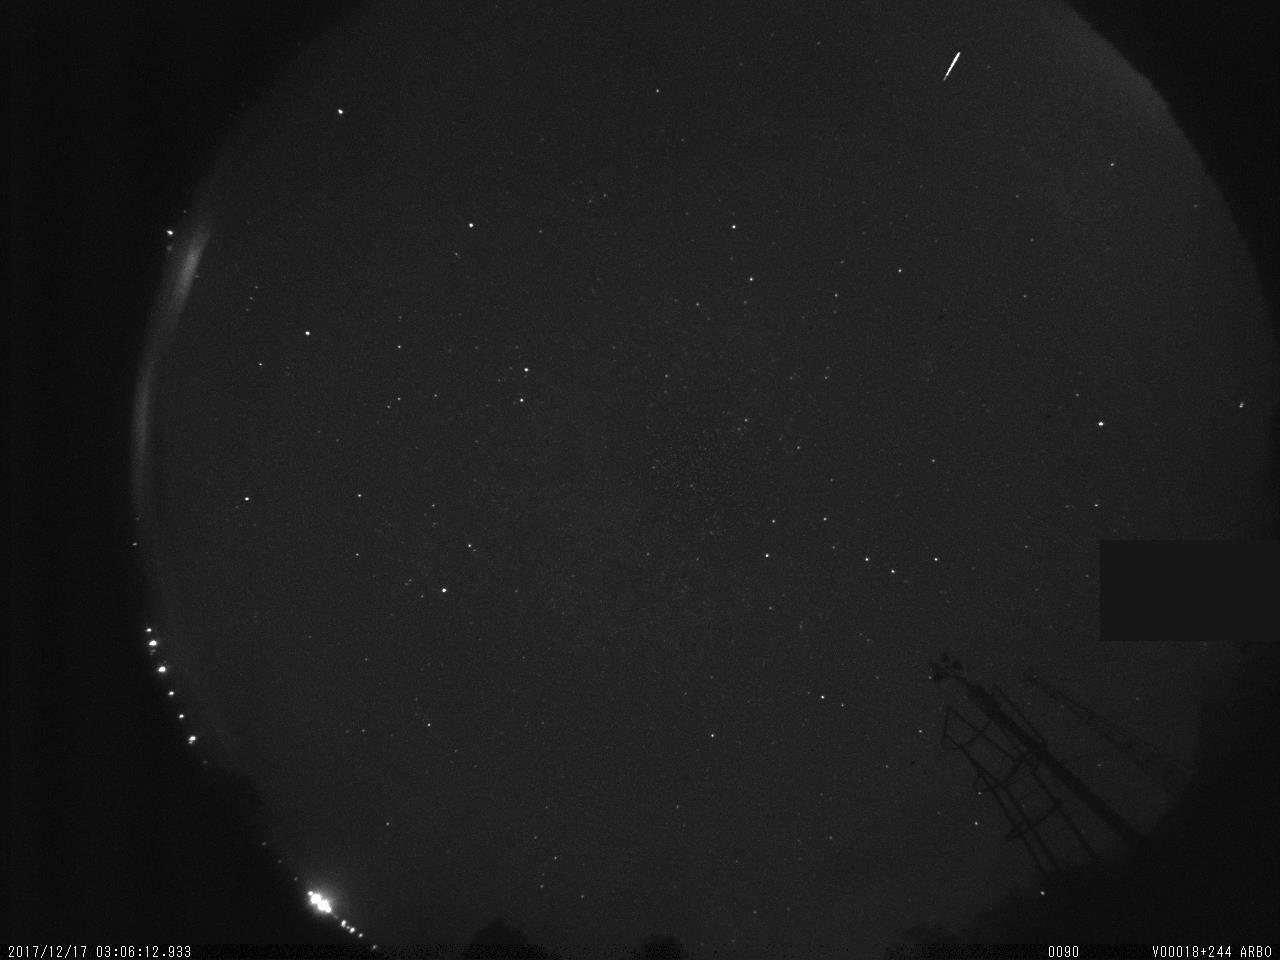meteor: (898, 22, 1005, 112)
